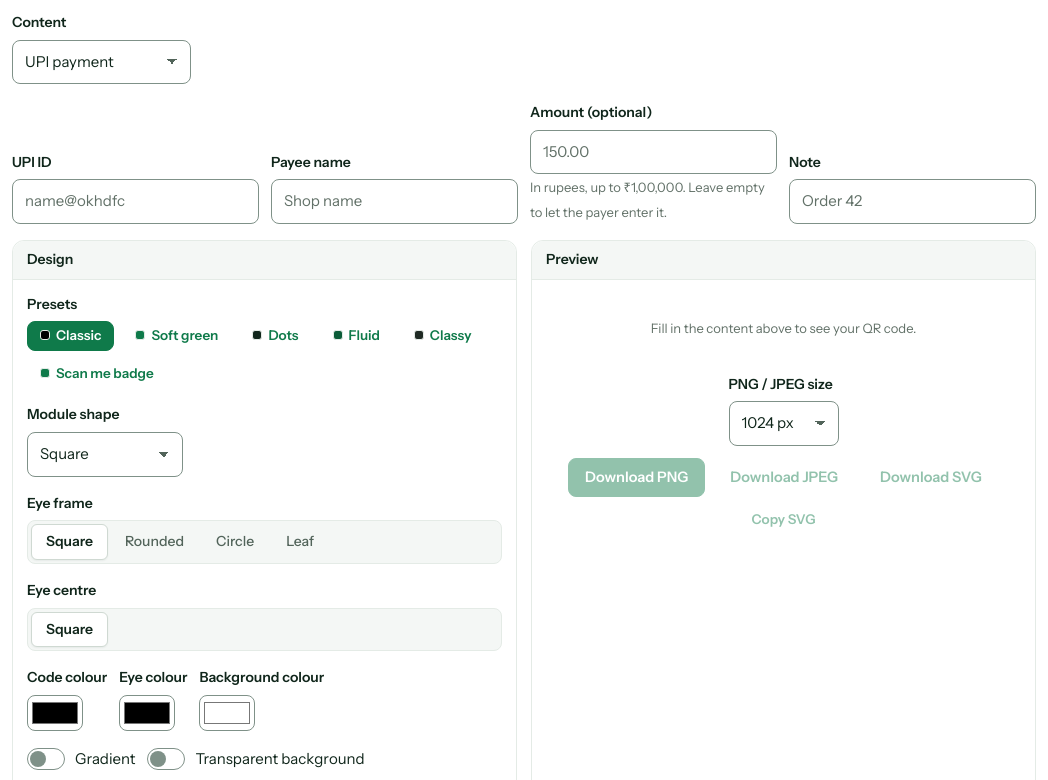
UpiQrCodeGenerator › shows an error and no preview for an invalid UPI ID
Type "not-a-upi-id" into the field labelled "UPI ID".
click(136, 202); type("not-a-upi-id")  # box [12, 180, 259, 224]
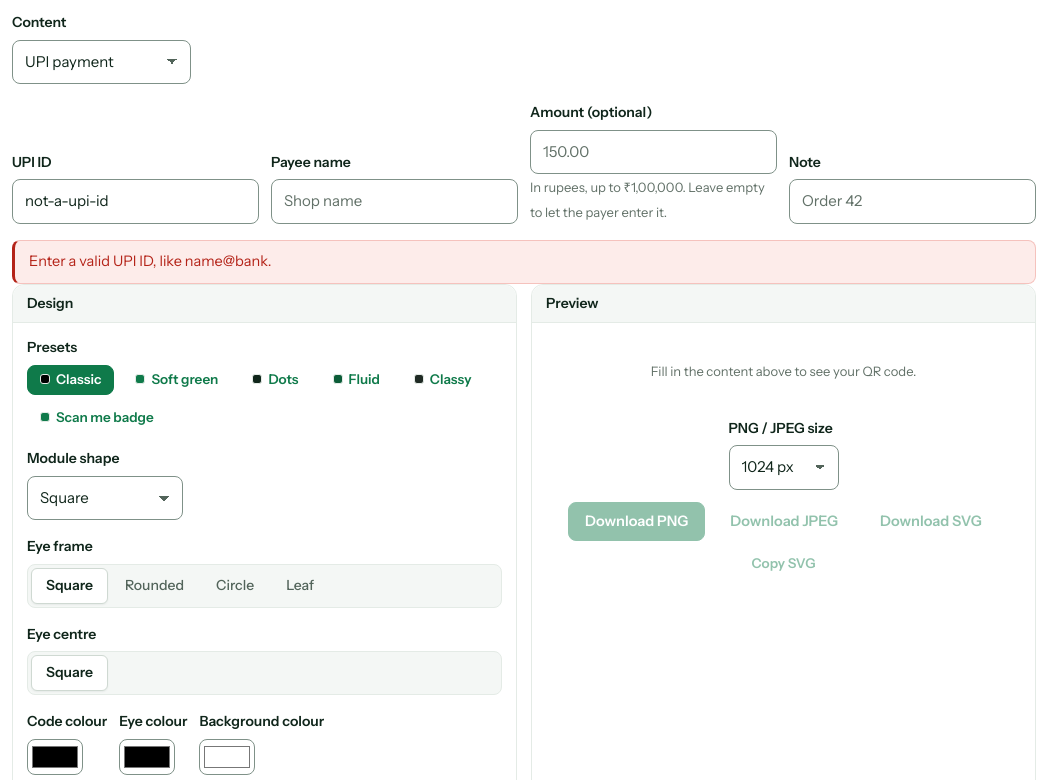
Check: the text "Enter a valid UPI ID, like name@bank." is shown, box [12, 240, 1036, 284]
